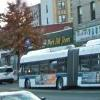Bus: (12, 45, 100, 91)
